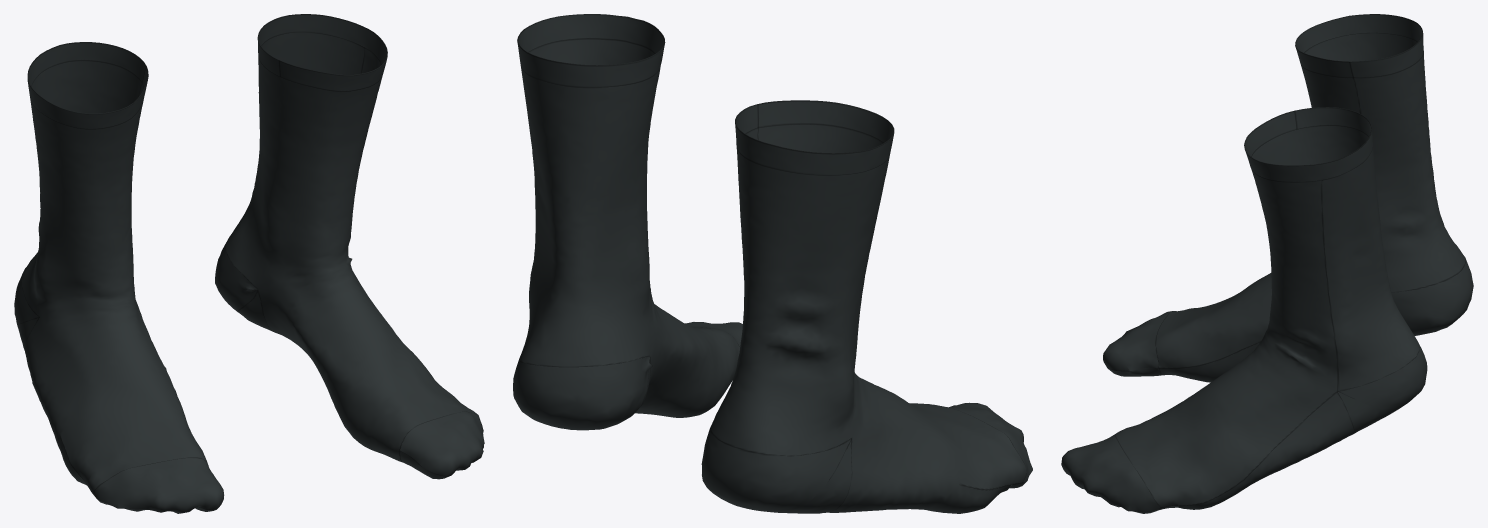
Rendered from modelo.glb.
3 views of the same model, side by side, from view 1: azimuth 30°, elevation 25°; view 2: azimuth 150°, elevation 25°; view 3: azimuth 270°, elevation 25° (orthographic). The views are drawn at different scales.
Visible parts, largest first — view 1: Cloth; view 2: Cloth; view 3: Cloth.
Part boxes in pixels (x1,y1,x2,y2): Cloth: (14, 14, 484, 513); Cloth: (513, 14, 1032, 513); Cloth: (1061, 14, 1473, 513).
Bounding box in the file's own units: 0.2698 × 0.2516 × 0.2665.
1 material, 1 textured.
